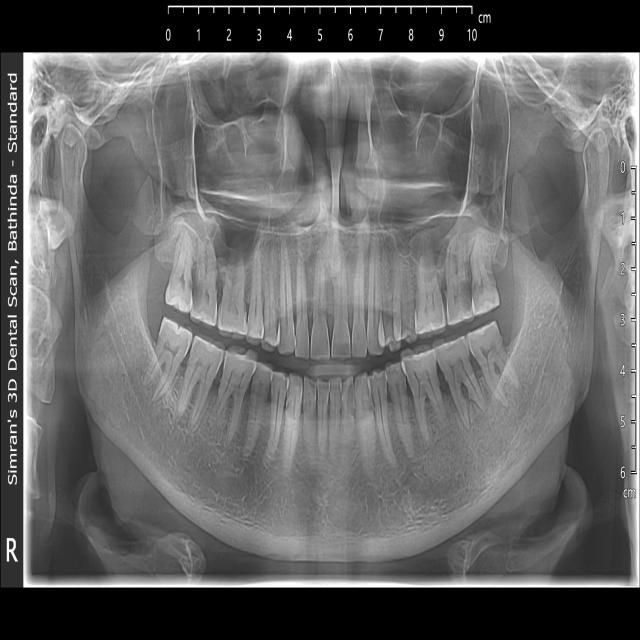Caries: (473, 276, 497, 314), (341, 377, 358, 415), (461, 282, 471, 309), (192, 287, 202, 309)
Periapical lesion: (457, 386, 487, 429)
